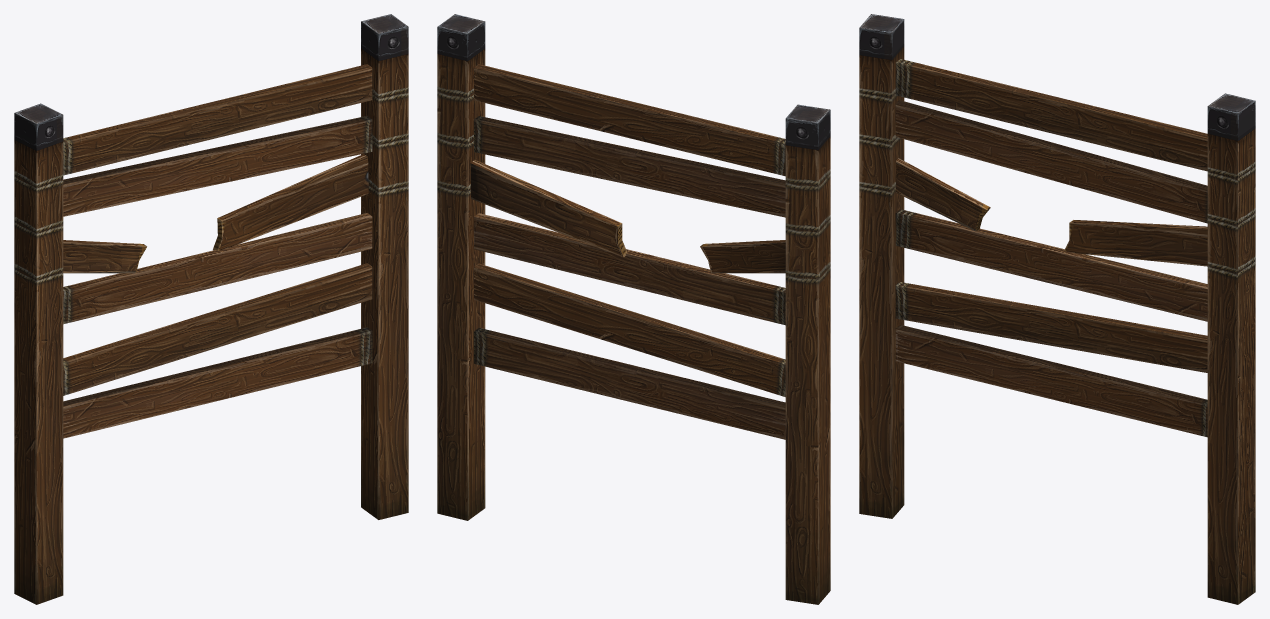
The model's file is Barrier2.fbx.
3 views of the same model, side by side, from view 1: azimuth 30°, elevation 25°; view 2: azimuth 150°, elevation 25°; view 3: azimuth 330°, elevation 25° (orthographic).
Visible parts, largest first — view 1: polySurface558; view 2: polySurface558; view 3: polySurface558.
Boxes of the visible parts, x1,y1,x2,y2 form: polySurface558: (14,14,408,604); polySurface558: (437,14,830,604); polySurface558: (859,14,1255,604).
Size of the model in its own units: 3.74 by 4.58 by 0.3461.
1 material, 1 textured.
